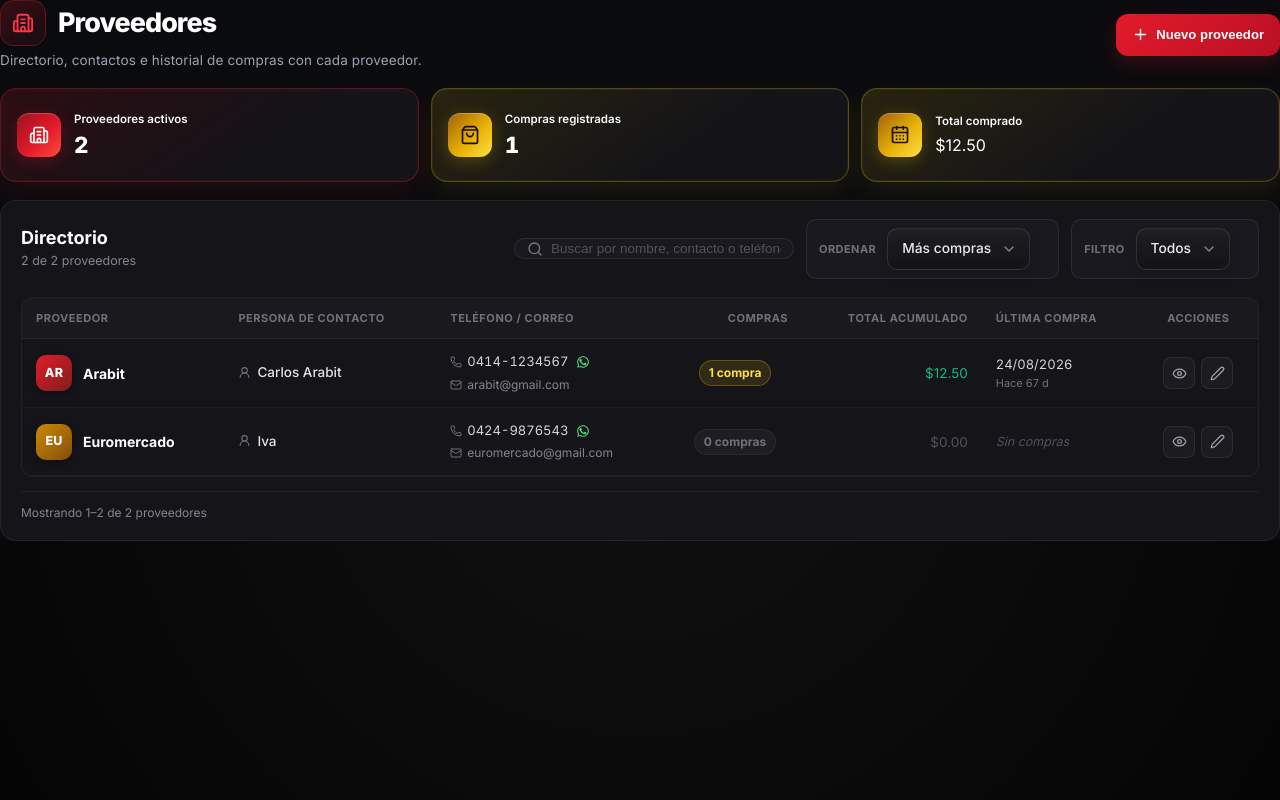
Test: Página de Proveedores (Formato Tabla) › permite filtrar proveedores por el buscador
Check: the text "Arabit" is shown, box [83,363,125,384]
Type "Euro" into the field with placeholder "Buscar por nombre, contacto o teléfono...".
click(666, 249); type("Euro")  # box [551,239,781,258]
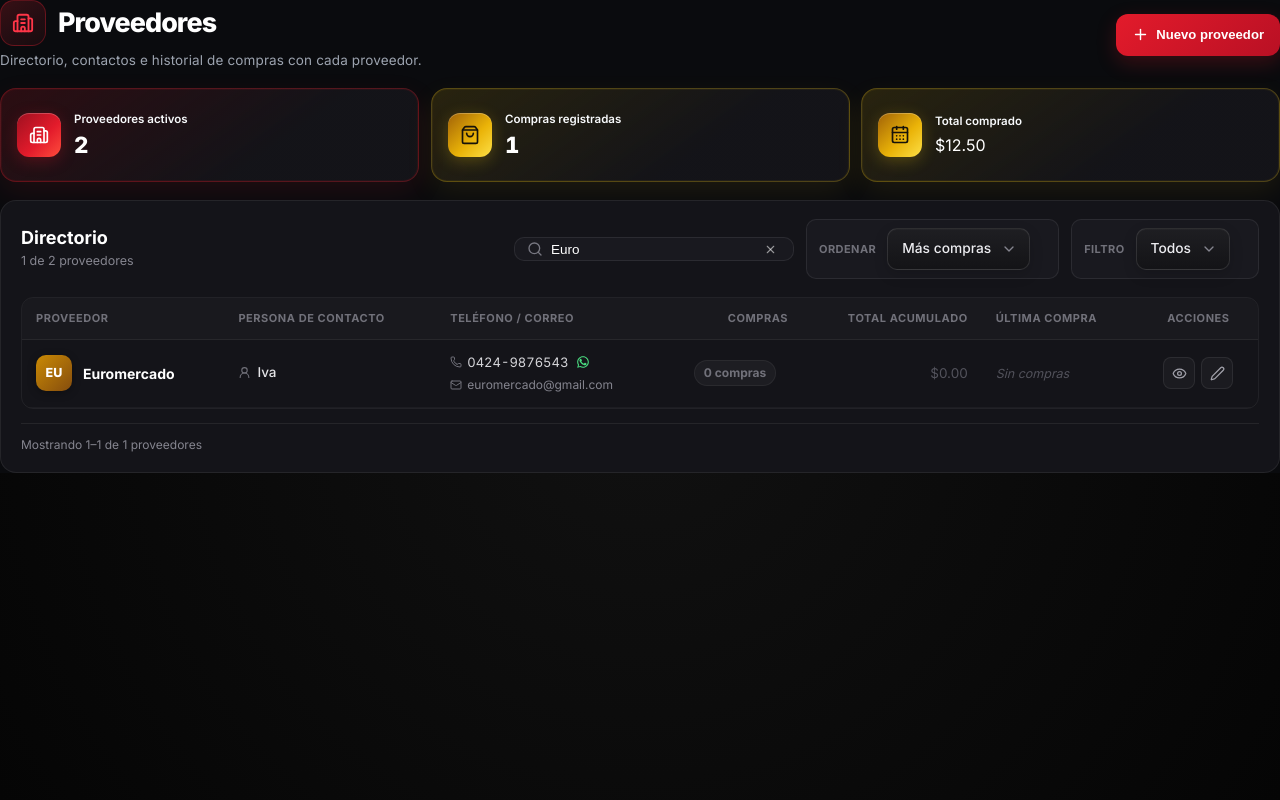
Check: the text "Euromercado" is shown, box [83,363,175,384]
Check: the text "Arabit" is gone
